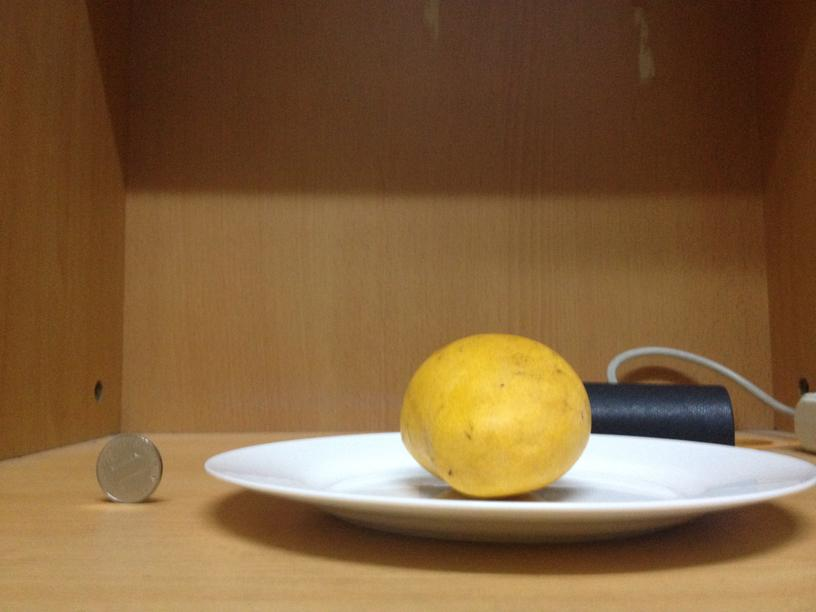coin: (95, 432, 163, 503)
mango: (397, 333, 594, 495)
